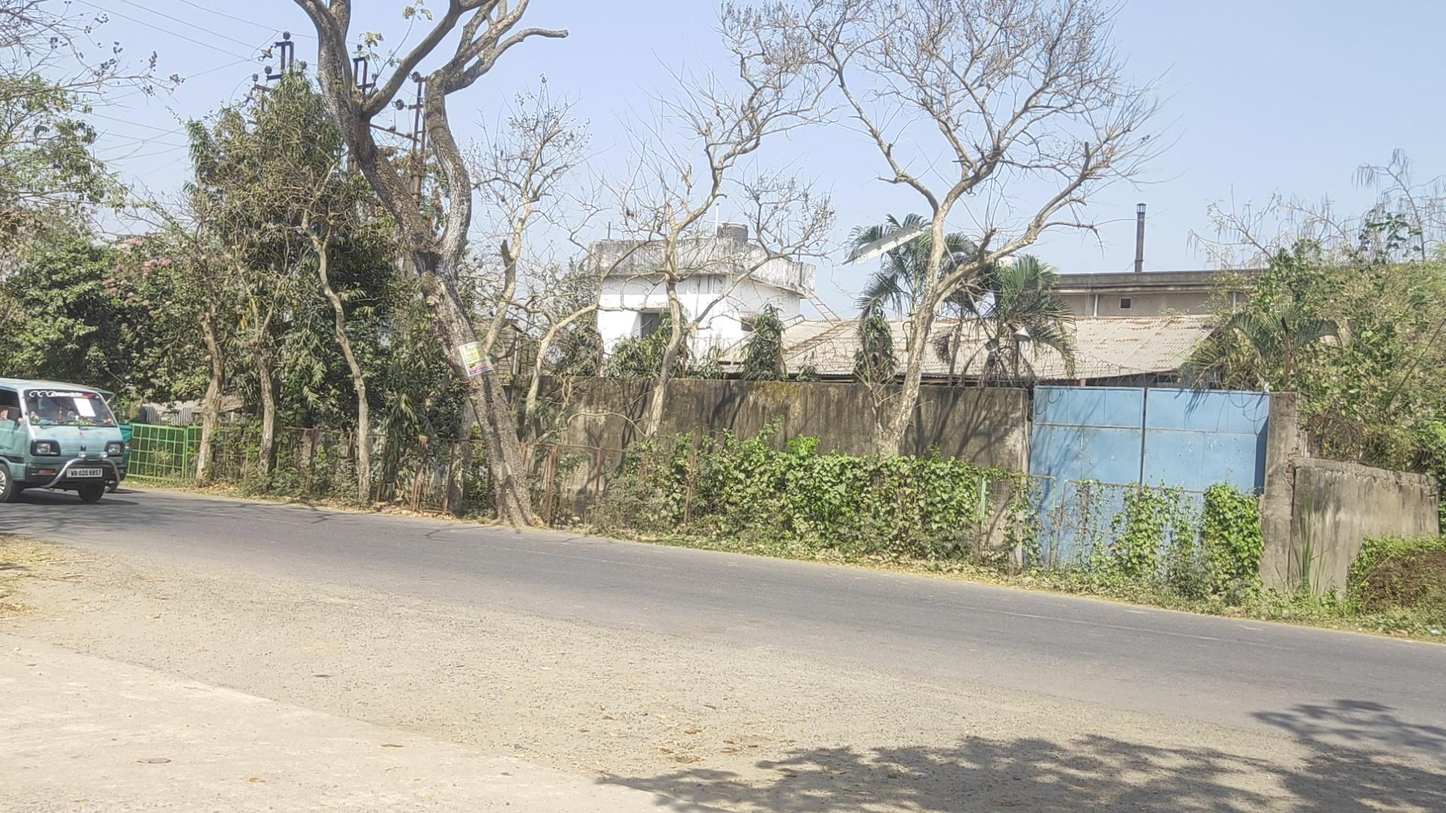van: (2, 379, 127, 506)
